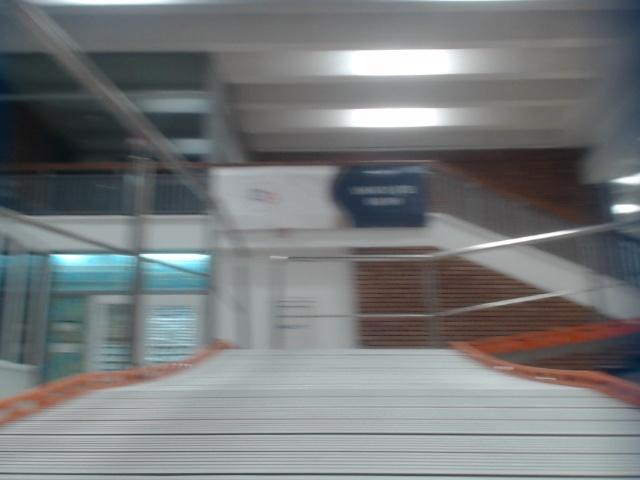rampUp: (0, 314, 639, 479)
ramps-railing: (0, 1, 255, 259), (0, 205, 249, 321), (261, 214, 639, 266), (266, 274, 636, 325), (125, 140, 156, 373), (268, 267, 287, 348), (420, 269, 438, 342)
